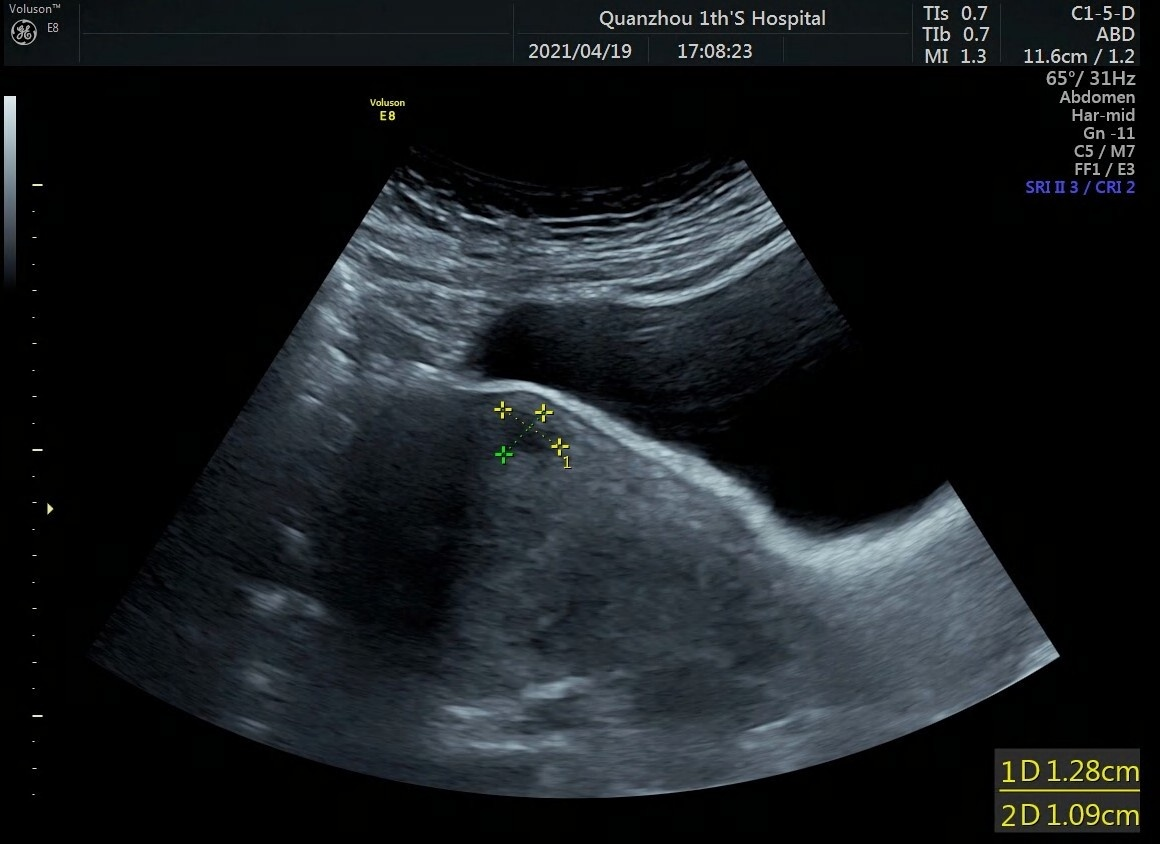肌瘤: (501, 410, 560, 456)
